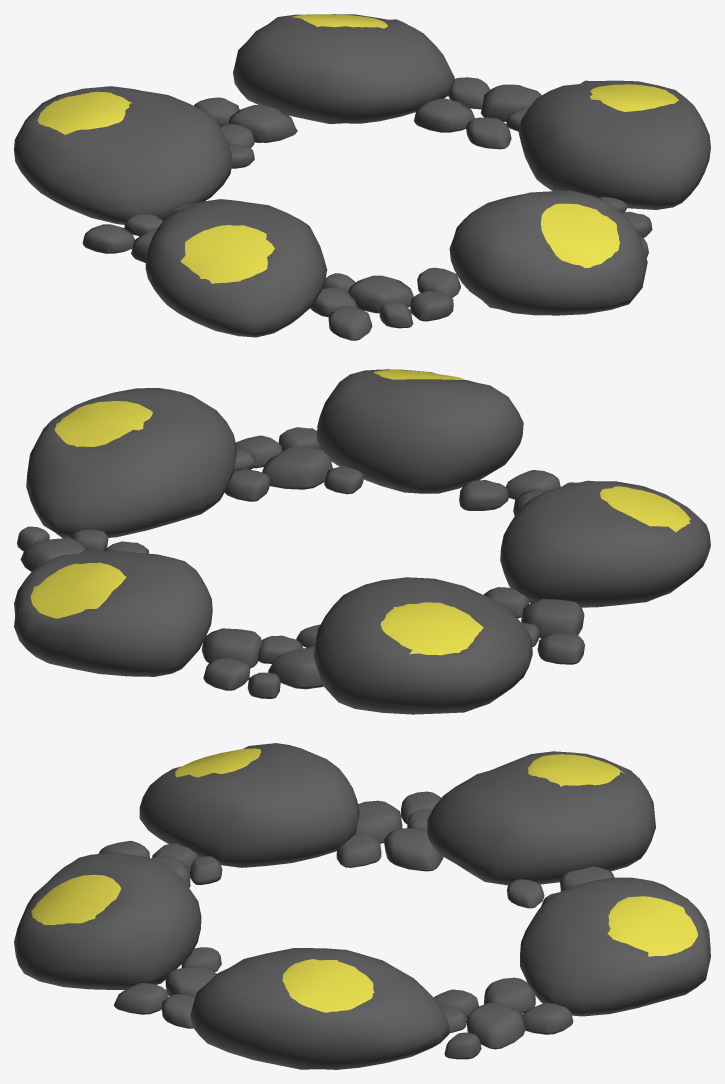
The model's file is sakuraBase.fbx.
3 renders of one model, top to bottom at view 1: azimuth 30°, elevation 25°; view 2: azimuth 150°, elevation 25°; view 3: azimuth 270°, elevation 25°, orthographic. The views are drawn at different scales.
Parts seen in each view (by area): view 1: stone_base; view 2: stone_base; view 3: stone_base.
Boxes of the visible parts, left/top/right/bottom form: stone_base: left=14, top=14, right=710, bottom=340; stone_base: left=14, top=369, right=710, bottom=714; stone_base: left=14, top=743, right=710, bottom=1069.
Size of the model in its own units: 1.85 by 0.27 by 1.91.
